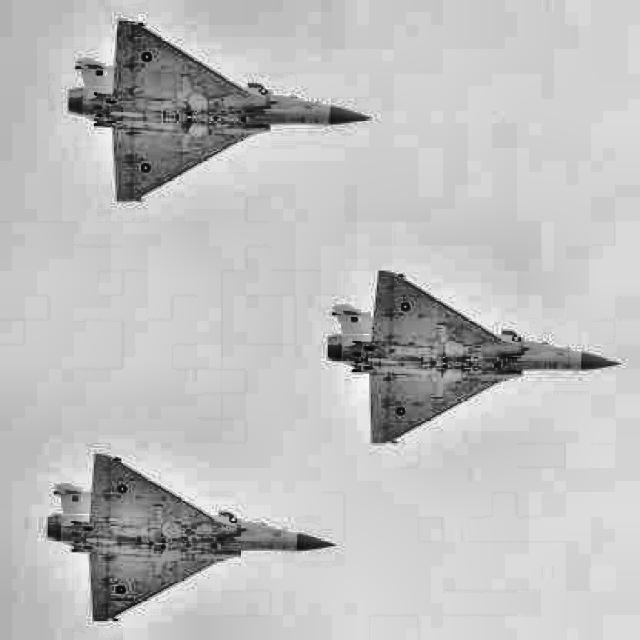Mirage2000: (68, 18, 372, 202), (327, 270, 622, 444), (46, 452, 337, 622)
